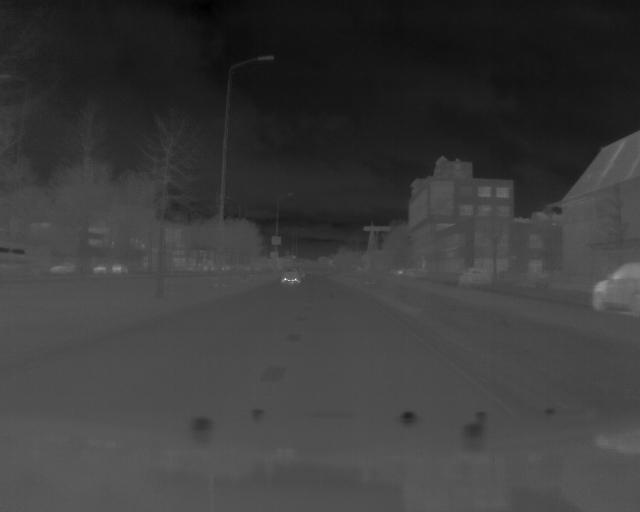car: (591, 259, 640, 312), (280, 266, 303, 286)
